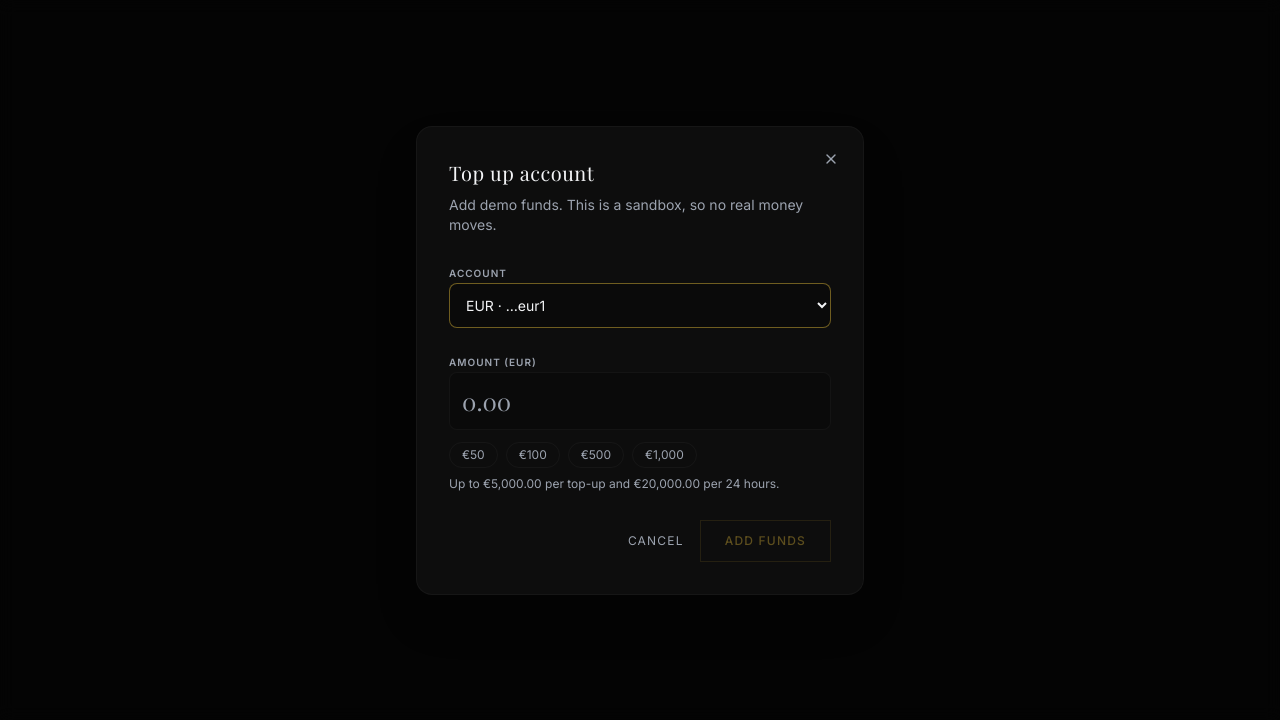
Scenario: TopUpModal › submits the typed amount in minor units for the chosen account
In the field labelled "Amount (EUR)": (640, 400) [449,372,831,430], type "125,50"
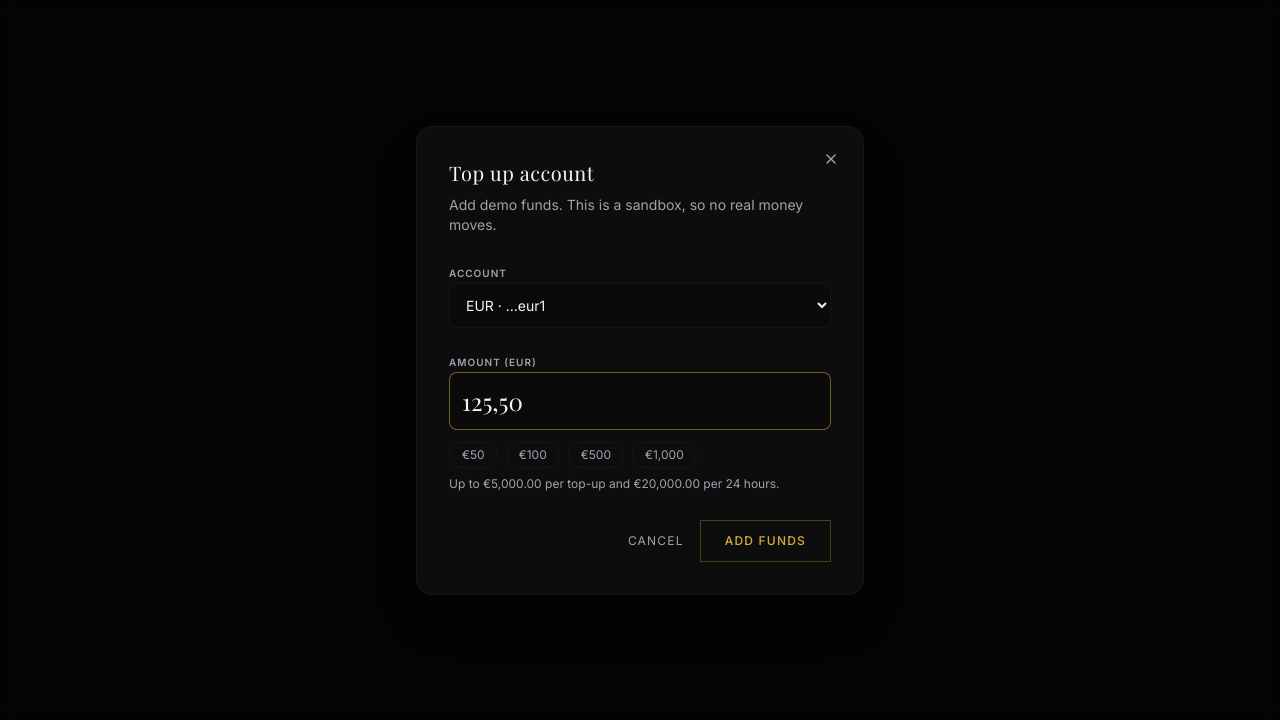
Click the button "Add funds": click(765, 540) [700,520,831,562]
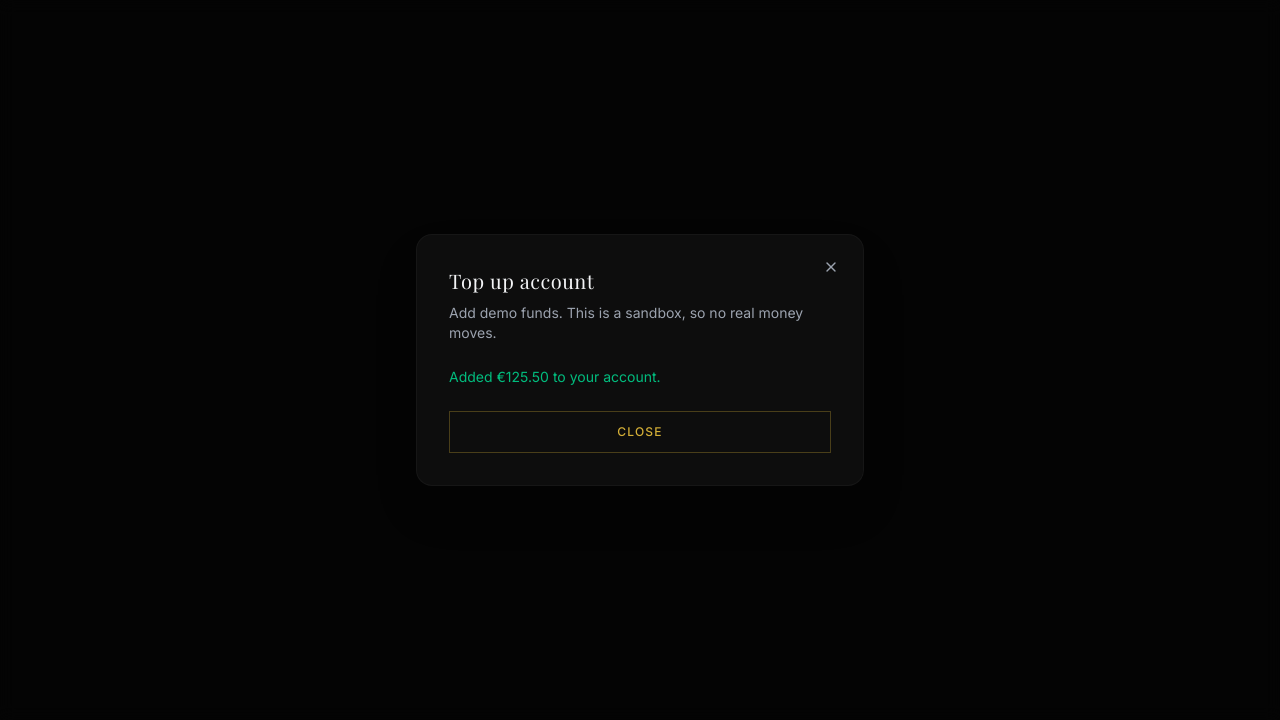
Now the message reads "Added €125.50 to your account.", box [449,368,660,385]
